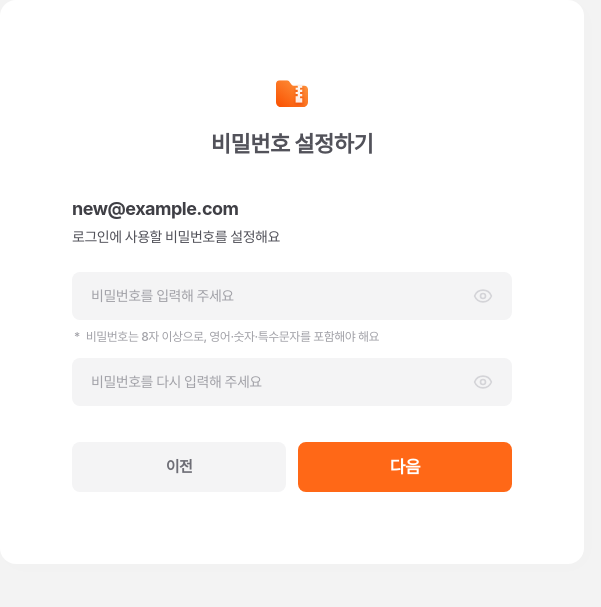
SignupPasswordForm › shows the designed Password format error
Type "Password" into the password field labelled "비밀번호" at (278, 296), box top-left (91, 285), bottom-right (465, 307)
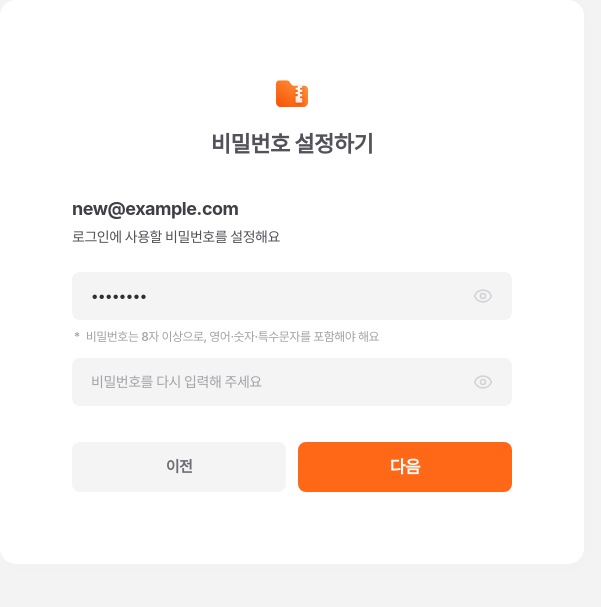
Press Tab
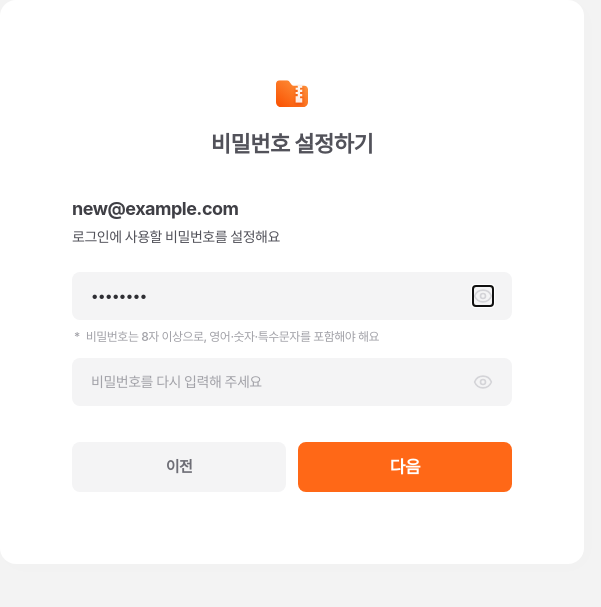
Click the button "다음" at (405, 467), box top-left (298, 442), bottom-right (512, 492)
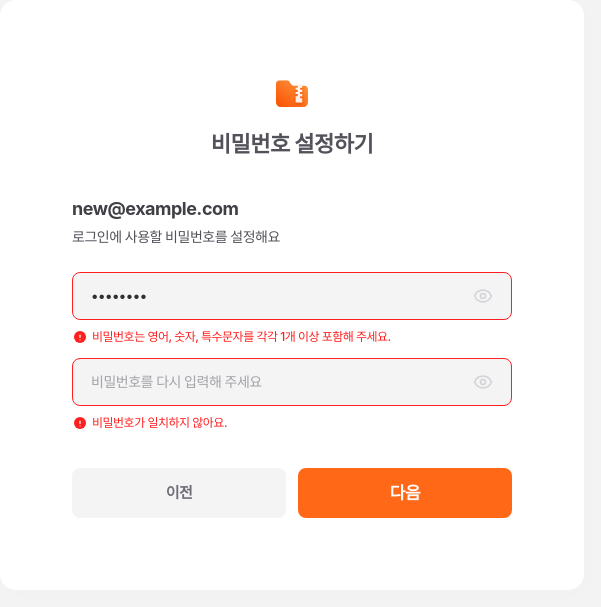
Result: the text "비밀번호는 영어, 숫자, 특수문자를 각각 1개 이상 포함해 주세요." is shown at top-left (92, 328), bottom-right (391, 346)
